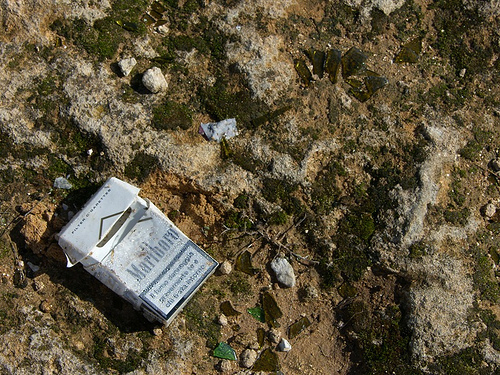litter: (56, 175, 219, 322)
